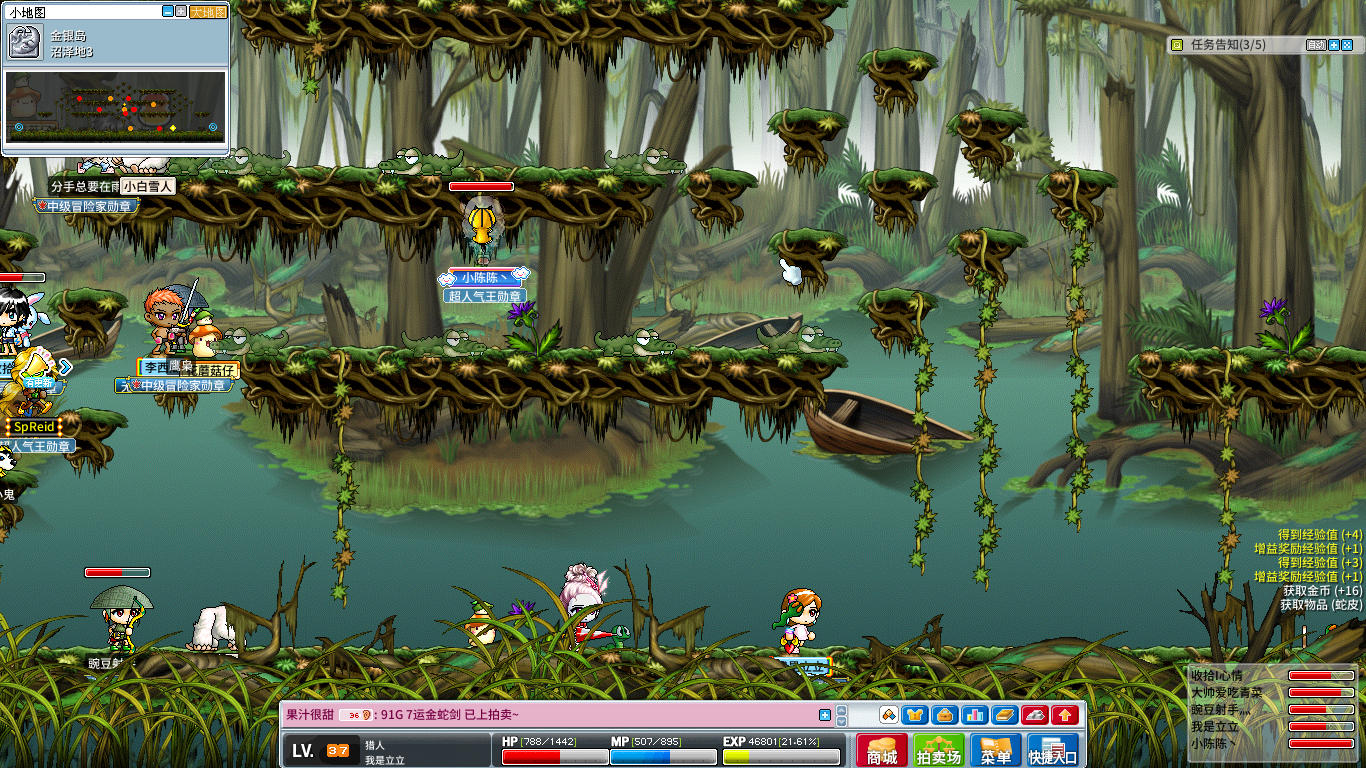monster: (600, 625, 631, 653)
